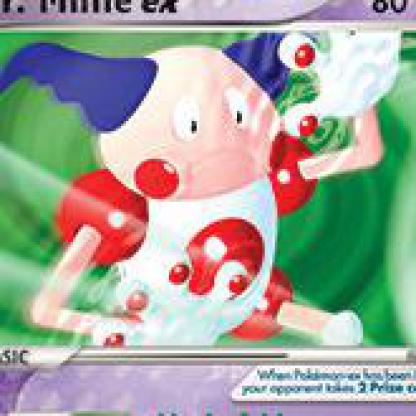Mr. Mime: (21, 1, 415, 415)
